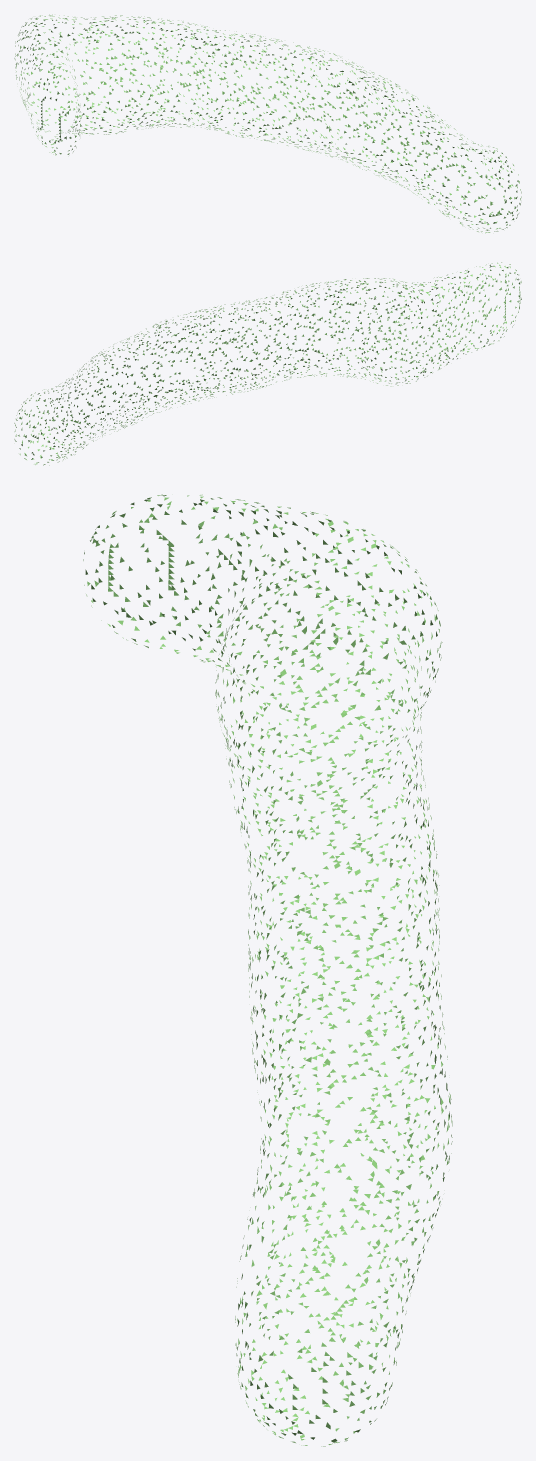
Rendered from morph_015.glb.
3 renders of one model, top to bottom at view 1: azimuth 30°, elevation 25°; view 2: azimuth 150°, elevation 25°; view 3: azimuth 270°, elevation 25°, orthographic. The views are drawn at different scales.
Size of the model in its own units: 125 by 73.69 by 44.94.
